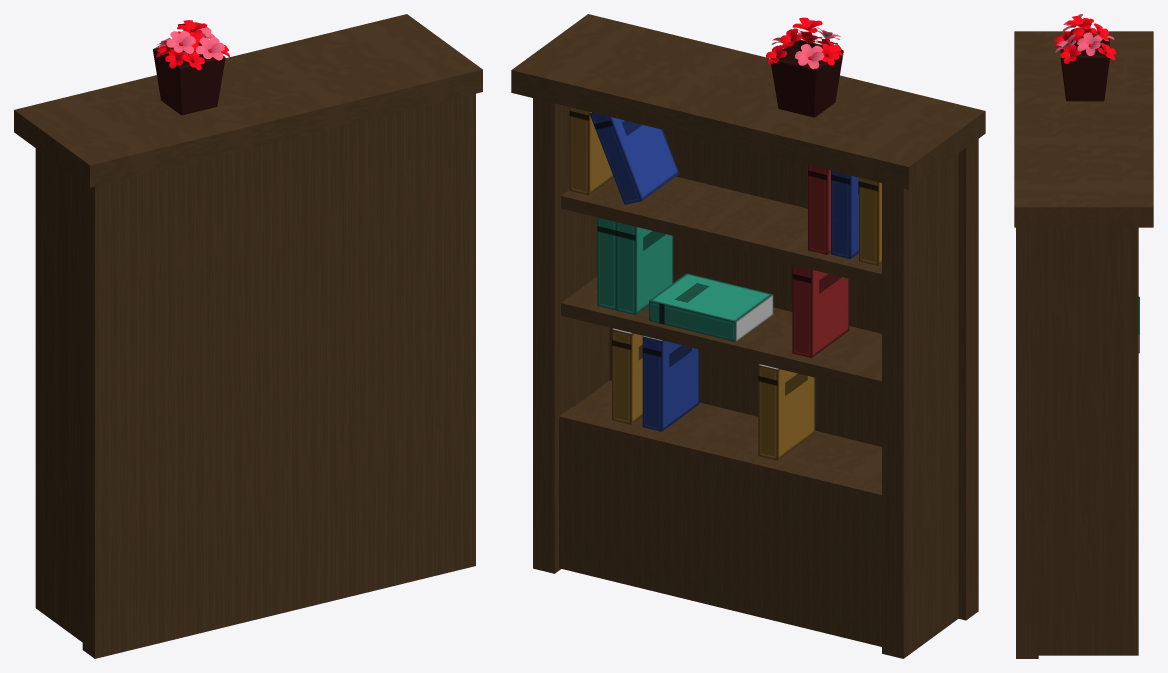
File: schrank.dae
The picture shows the model from 3 angles, left to right: view 1: azimuth 30°, elevation 25°; view 2: azimuth 150°, elevation 25°; view 3: azimuth 270°, elevation 25°; orthographic projection. The views are drawn at different scales.
Visible parts, largest first — view 1: Würfel, Würfel.3, Würfel.2, flower_pot_03; view 2: Würfel.7, Würfel.3, Würfel.2, Würfel, Würfel.1, Würfel.4, Würfel.5 (×2), Würfel.6 (×2), Würfel.13, flower_pot_03, Würfel.9, Würfel.16 (+7 smaller); view 3: Würfel.1, Würfel.3, Würfel, flower_pot_03.
Part boxes in pixels (x1,y1,x2,y2): Würfel: (82,93,475,658); Würfel.3: (14,14,482,187); Würfel.2: (35,148,82,642); flower_pot_03: (153,20,229,115); Würfel.7: (559,407,881,646); Würfel.3: (511,14,985,189); Würfel.2: (882,153,958,658); Würfel: (609,130,978,620); Würfel.1: (533,98,609,573); Würfel.4: (561,176,881,286); Würfel.5 (×2): (561,177,881,393); Würfel.6 (×2): (569,107,881,482); Würfel.13: (649,273,773,341); flower_pot_03: (766,17,843,117); Würfel.9: (589,112,679,204); Würfel.16: (758,364,815,460); Würfel.1: (1038,227,1138,655); Würfel.3: (1014,31,1153,227); Würfel: (1016,227,1038,658); flower_pot_03: (1054,14,1116,101).
Bounding box in the file's own units: 165 × 231 × 55.17.
Materials: 10 (6 with a texture image).
